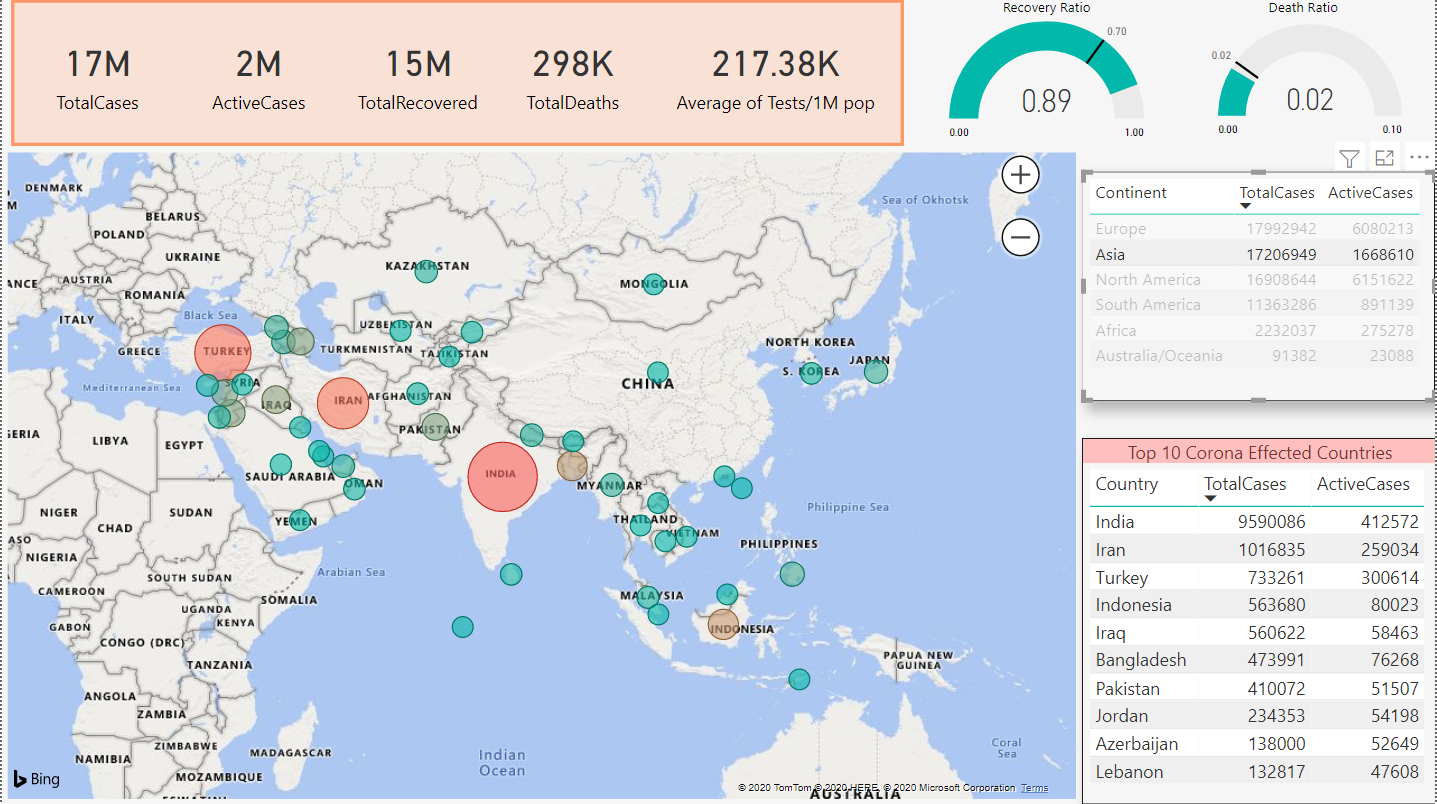

The page's visual inventory and layout, read from the dashboard file:
{"tool":"powerbi","page":{"name":"Page 1","canvas":[1280,720],"ordinal":0},"visuals":[{"type":"basicShape","box":[0,0,813.3,133.3],"z":0},{"type":"map","fields":{"Category":["Corona_World_Data.Country,Other"],"Size":["Sum(Corona_World_Data.ActiveCases)"]},"box":[0,132.8,964.5,587.2],"z":1000},{"type":"gauge","fields":{"Y":["Corona_World_Data.Death Ratio"]},"box":[1069.1,0,185.5,133.3],"z":2000},{"type":"gauge","fields":{"Y":["Corona_World_Data.Recovery Ratio"]},"box":[837.6,0,191.5,133.3],"z":3000},{"type":"card","fields":{"Values":["Sum(Corona_World_Data.TotalCases)"]},"box":[15.8,0,139.4,133.3],"z":4000},{"type":"card","fields":{"Values":["Sum(Corona_World_Data.TotalRecovered)"]},"box":[303,0,138.2,133.3],"z":5000},{"type":"card","fields":{"Values":["Sum(Corona_World_Data.ActiveCases)"]},"box":[155.2,0,147.9,133.3],"z":6000},{"type":"card","fields":{"Values":["Sum(Corona_World_Data.TotalDeaths)"]},"box":[441.2,0,138.2,133.3],"z":7000},{"type":"card","fields":{"Values":["Avg(Corona_World_Data.Tests/1M pop)"]},"box":[579.4,0,223,133.3],"z":8000},{"type":"tableEx","fields":{"Values":["Corona_World_Data.Continent","Sum(Corona_World_Data.TotalCases)","Sum(Corona_World_Data.ActiveCases)"]},"box":[964.8,155.2,315.2,204.8],"z":9000},{"type":"tableEx","title":"Top 10 Corona Effected Countries","fields":{"Values":["Corona_World_Data.Country,Other","Sum(Corona_World_Data.TotalCases)","Sum(Corona_World_Data.ActiveCases)"]},"box":[964.5,392.9,315.9,327.1],"z":10000}]}

Visuals, with their boxes in screenshot pixels (x1, y1, x2, y2), scaled from the page's 1280x720 canvas onto the 1437x804 screenshot:
basicShape: locate(0, 0, 913, 149)
map - Corona_World_Data.Country,Other x Sum(Corona_World_Data.ActiveCases): locate(0, 148, 1083, 803)
gauge - Corona_World_Data.Death Ratio: locate(1200, 0, 1408, 149)
gauge - Corona_World_Data.Recovery Ratio: locate(940, 0, 1155, 149)
card - Sum(Corona_World_Data.TotalCases): locate(18, 0, 174, 149)
card - Sum(Corona_World_Data.TotalRecovered): locate(340, 0, 495, 149)
card - Sum(Corona_World_Data.ActiveCases): locate(174, 0, 340, 149)
card - Sum(Corona_World_Data.TotalDeaths): locate(495, 0, 650, 149)
card - Avg(Corona_World_Data.Tests/1M pop): locate(650, 0, 901, 149)
tableEx - Corona_World_Data.Continent x Sum(Corona_World_Data.TotalCases): locate(1083, 173, 1436, 402)
"Top 10 Corona Effected Countries" tableEx: locate(1083, 439, 1436, 803)
